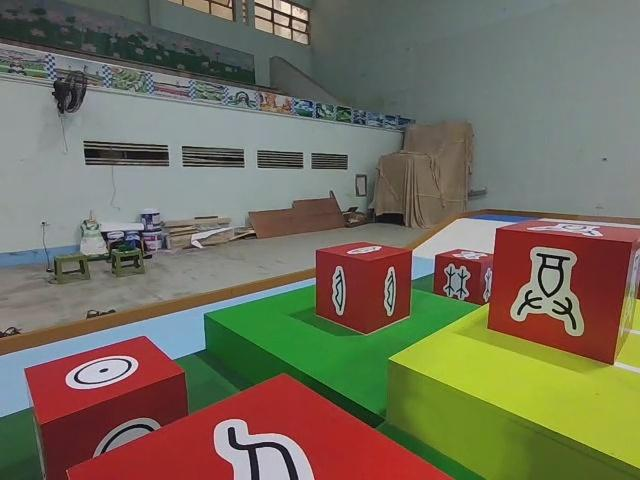R2 Real: (62, 369, 457, 480), (22, 335, 185, 480), (488, 218, 640, 369), (317, 241, 413, 333), (435, 248, 493, 311)
